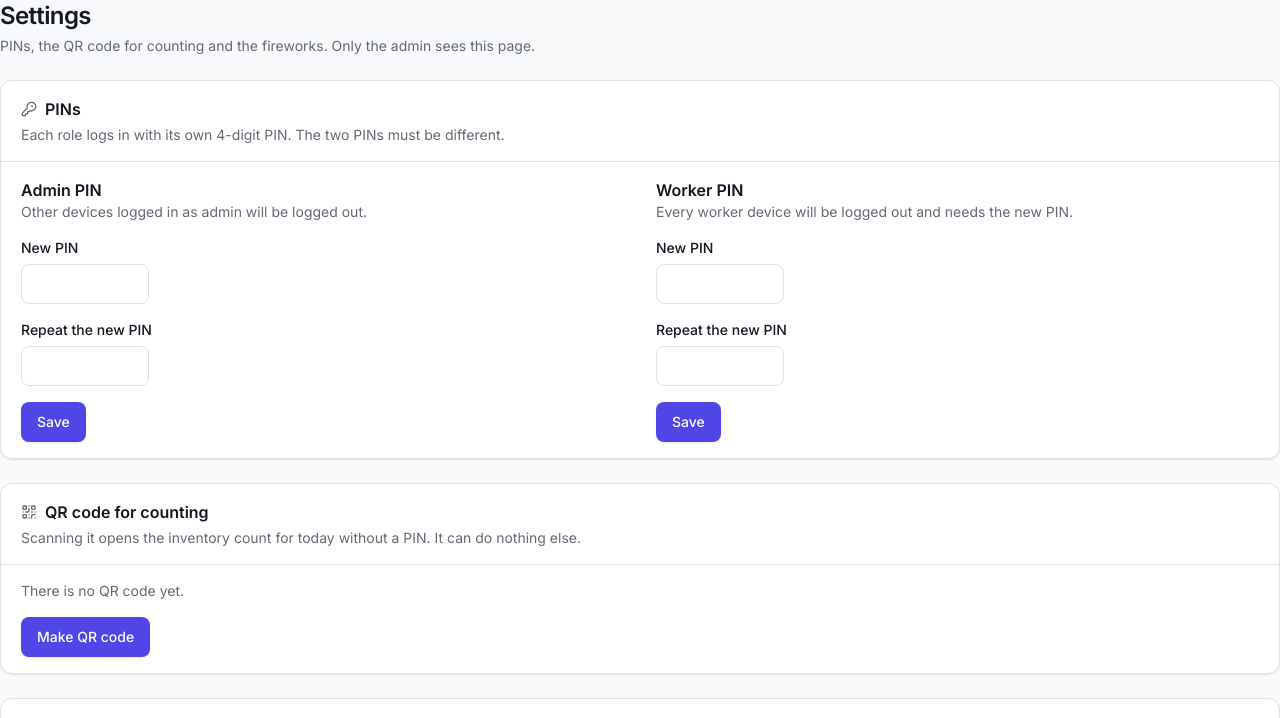
Test: Settings: PINs › needs exactly 4 digits
Type "123" into the password field labelled "New PIN" below "Worker PIN" at (720, 284), box [656, 264, 784, 304]
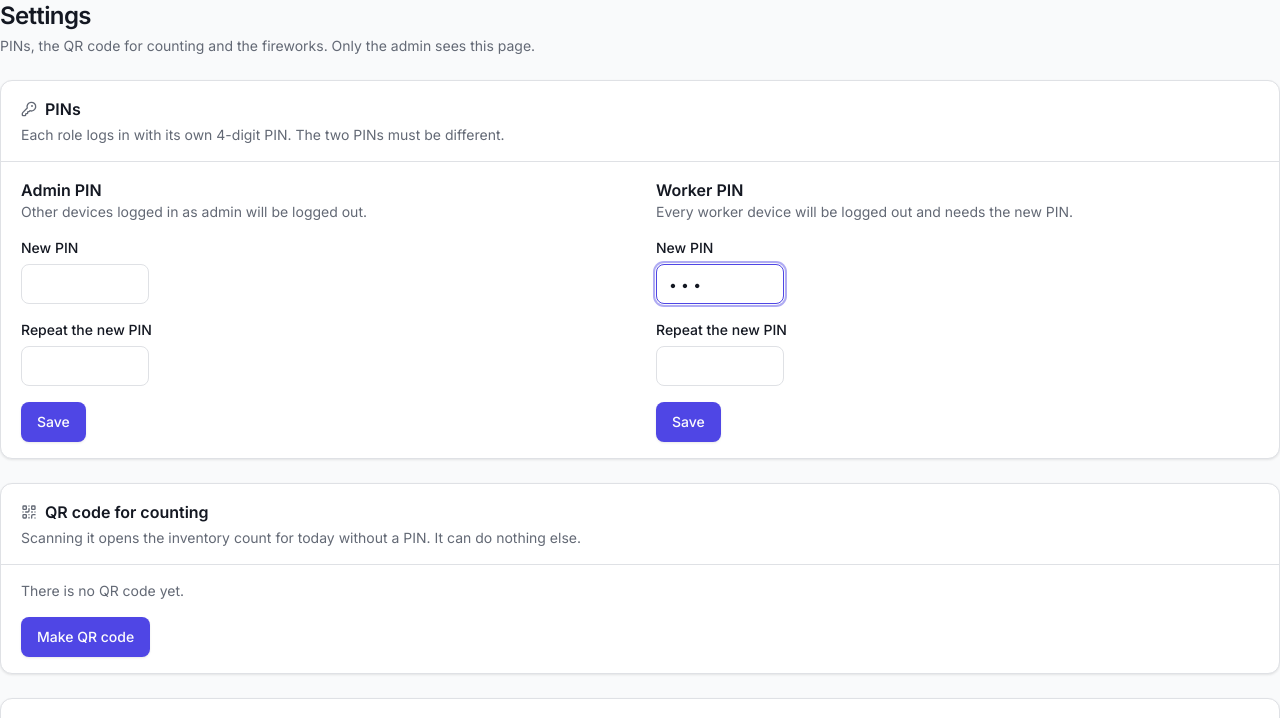
Type "123" into the password field labelled "Repeat the new PIN" below "Worker PIN" at (720, 366), box [656, 346, 784, 386]
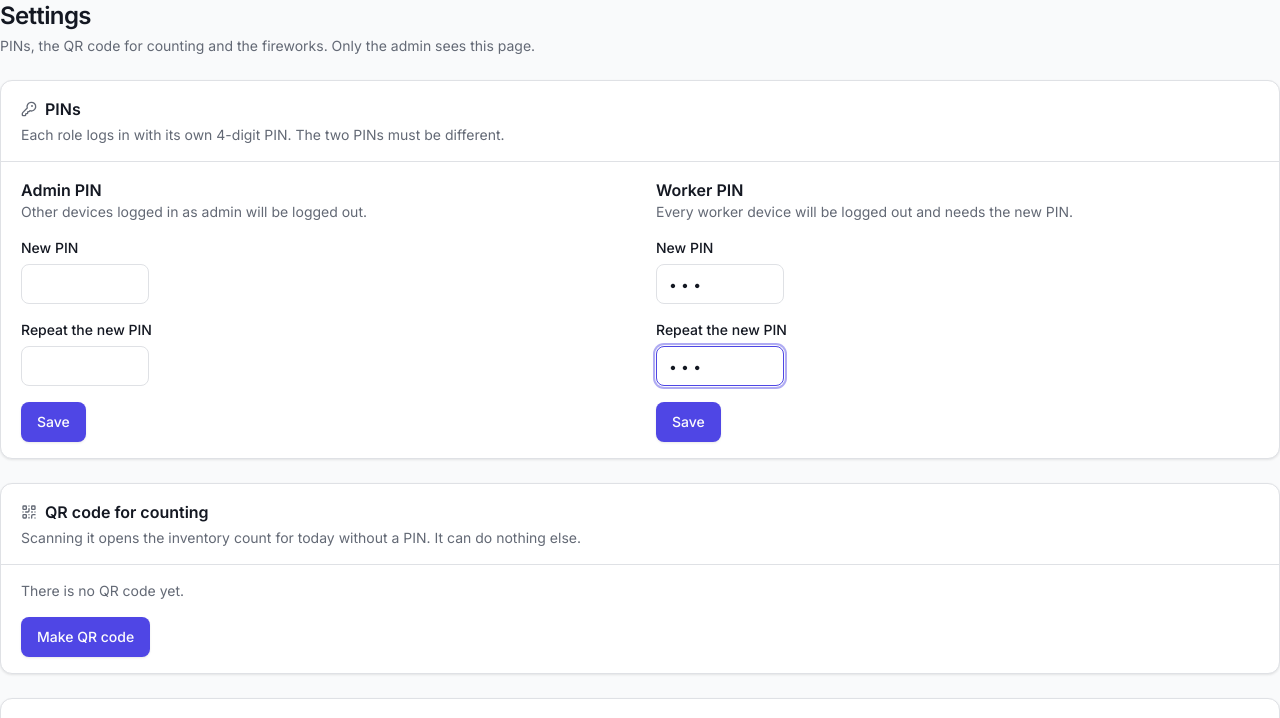
Click the button "Save" below "Worker PIN" at (688, 422), box [656, 402, 721, 442]
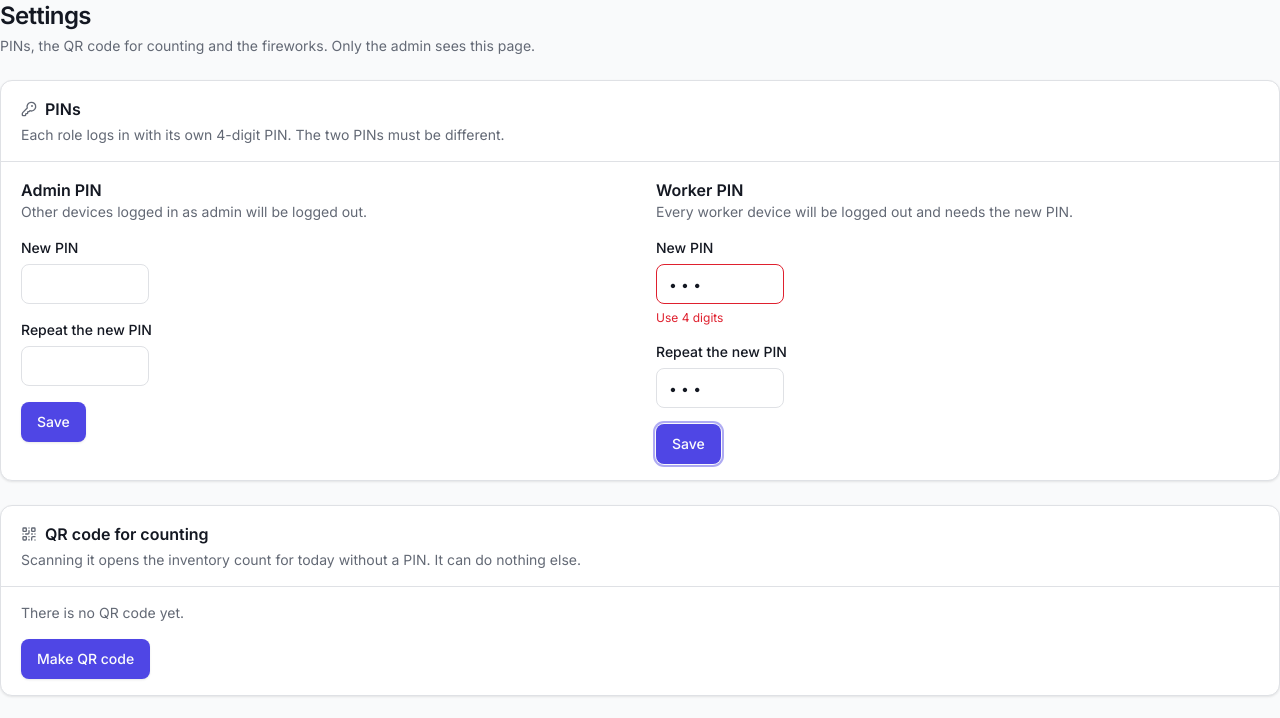
Result: the text "Use 4 digits" is shown at [656, 310, 723, 325]
